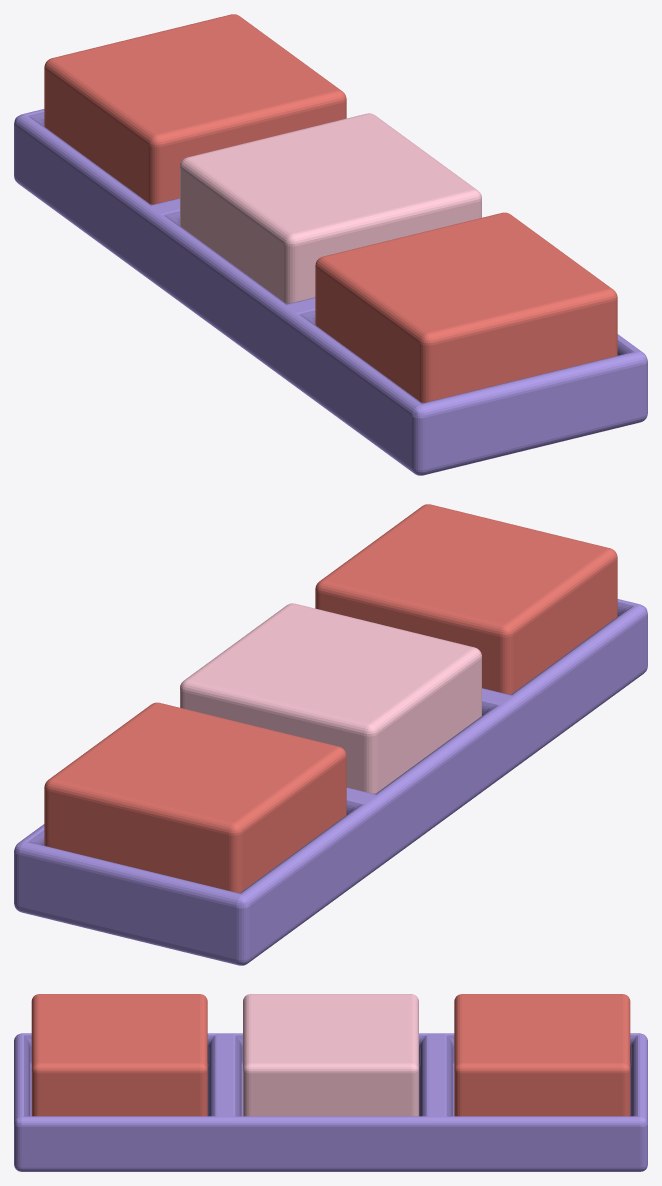
Rendered from mediaPlayer.gltf.
3 views of the same model, one above another, from view 1: azimuth 30°, elevation 25°; view 2: azimuth 150°, elevation 25°; view 3: azimuth 270°, elevation 25° (orthographic). The views are drawn at different scales.
Visible parts, largest first — view 1: keyPlayer; view 2: keyPlayer; view 3: keyPlayer.
Part boxes in pixels (x1=…): keyPlayer: x1=14, y1=14, x2=647, y2=475; keyPlayer: x1=14, y1=504, x2=647, y2=965; keyPlayer: x1=14, y1=994, x2=647, y2=1171.
Bounding box in the file's own units: 2 × 1.05 × 6.
